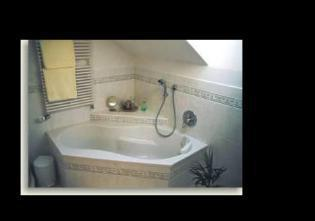Bote de Basura: (32, 155, 55, 185)
